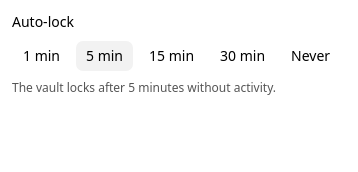
AutoLockSetting saving › saves a new choice through the backend and reflects it
Click the button "Never".
click(311, 56)  # box [280,40,341,72]
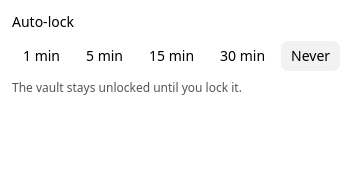
Expected: the text "The vault stays unlocked until you lock it." is shown, [12,79,242,96]
